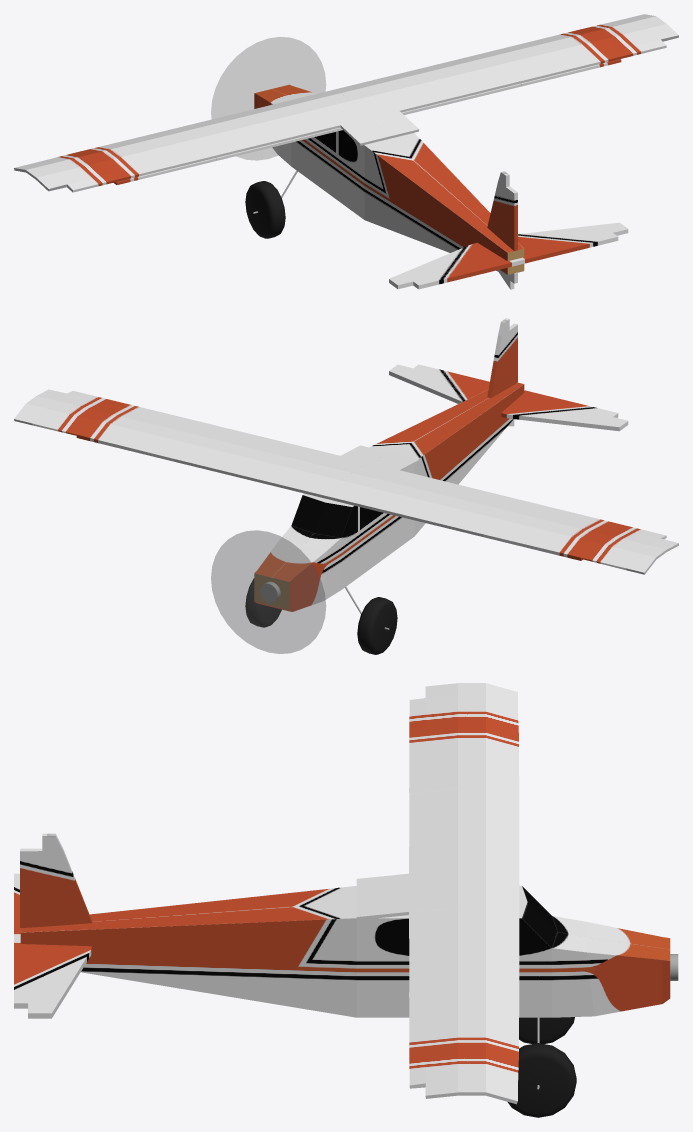
File: MainBody.glb
3 renders of one model, top to bottom at view 1: azimuth 30°, elevation 25°; view 2: azimuth 150°, elevation 25°; view 3: azimuth 270°, elevation 25°, orthographic. The views are drawn at different scales.
Parts seen in each view (by area): view 1: Wing, Body, Propeller, HStab, VStab, Wheel; view 2: Wing, Body, Propeller, HStab, Wheel, VStab; view 3: Wing, Body, Wheel, VStab, HStab.
Part boxes in pixels (left/top/right/bottom): Wing: left=14, top=14, right=678, bottom=192; Body: left=254, top=84, right=524, bottom=274; Propeller: left=211, top=37, right=325, bottom=160; HStab: left=389, top=222, right=628, bottom=289; VStab: left=487, top=171, right=517, bottom=289; Wheel: left=245, top=181, right=285, bottom=238; Wing: left=14, top=389, right=678, bottom=574; Body: left=254, top=382, right=524, bottom=611; Propeller: left=211, top=530, right=325, bottom=653; HStab: left=389, top=364, right=628, bottom=431; Wheel: left=245, top=578, right=397, bottom=654; VStab: left=487, top=318, right=517, bottom=426; Wing: left=356, top=683, right=519, bottom=1104; Body: left=20, top=885, right=670, bottom=1017; Wheel: left=507, top=1017, right=576, bottom=1117; VStab: left=20, top=833, right=91, bottom=927; HStab: left=14, top=873, right=91, bottom=1018.
Size of the model in its own units: 0.82 by 0.2281 by 0.563.
Materials: 5 (2 with a texture image).
